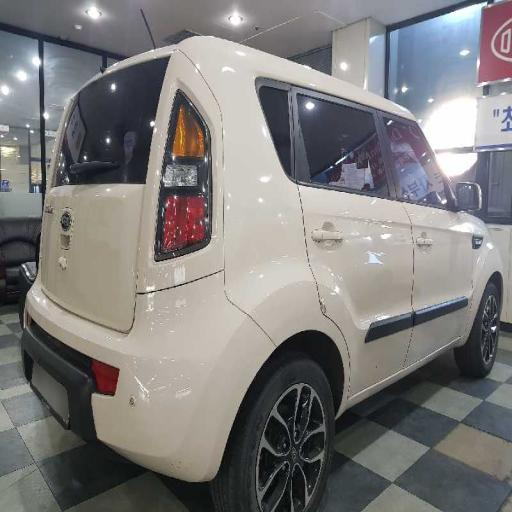scratch: (106, 96, 233, 482)
